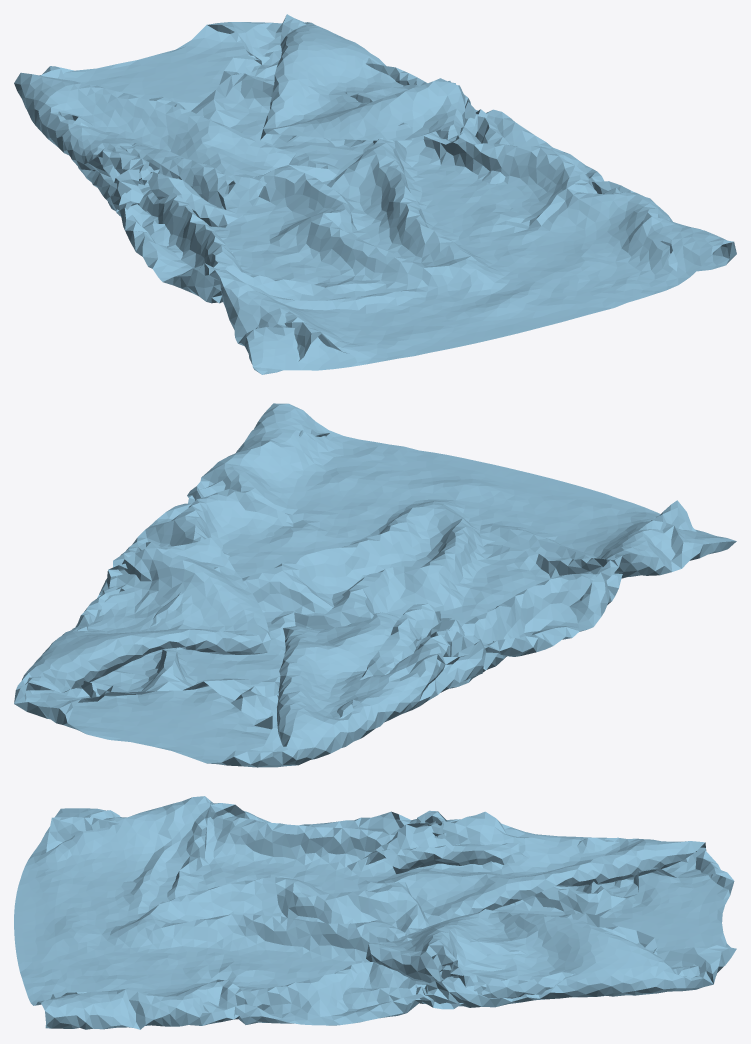
File: frame_00.glb
3 views of the same model, one above another, from view 1: azimuth 30°, elevation 25°; view 2: azimuth 150°, elevation 25°; view 3: azimuth 270°, elevation 25° (orthographic). The views are drawn at different scales.
Parts seen in each view (by area): view 1: frame_00.obj; view 2: frame_00.obj; view 3: frame_00.obj.
Part boxes in pixels (<box>): frame_00.obj: <box>14,14,736,374</box>; frame_00.obj: <box>14,403,736,767</box>; frame_00.obj: <box>14,796,736,1029</box>.
Bounding box in the file's own units: 1.23 × 0.1508 × 1.71.
